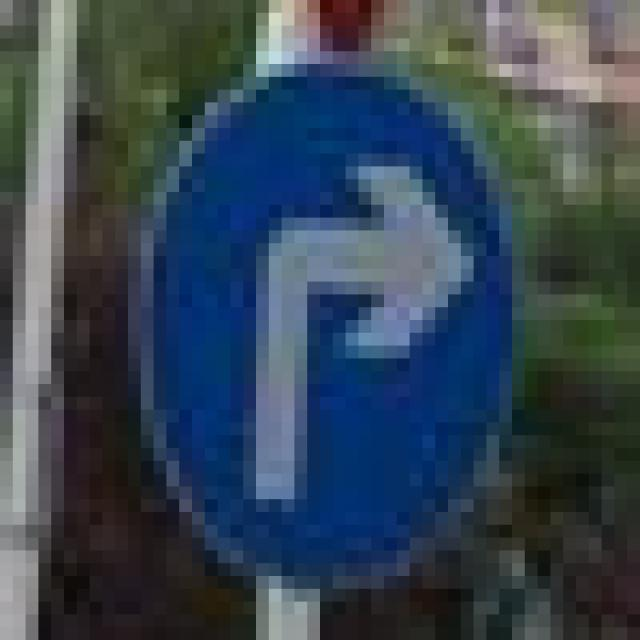railway_crossing: (115, 38, 499, 576)
